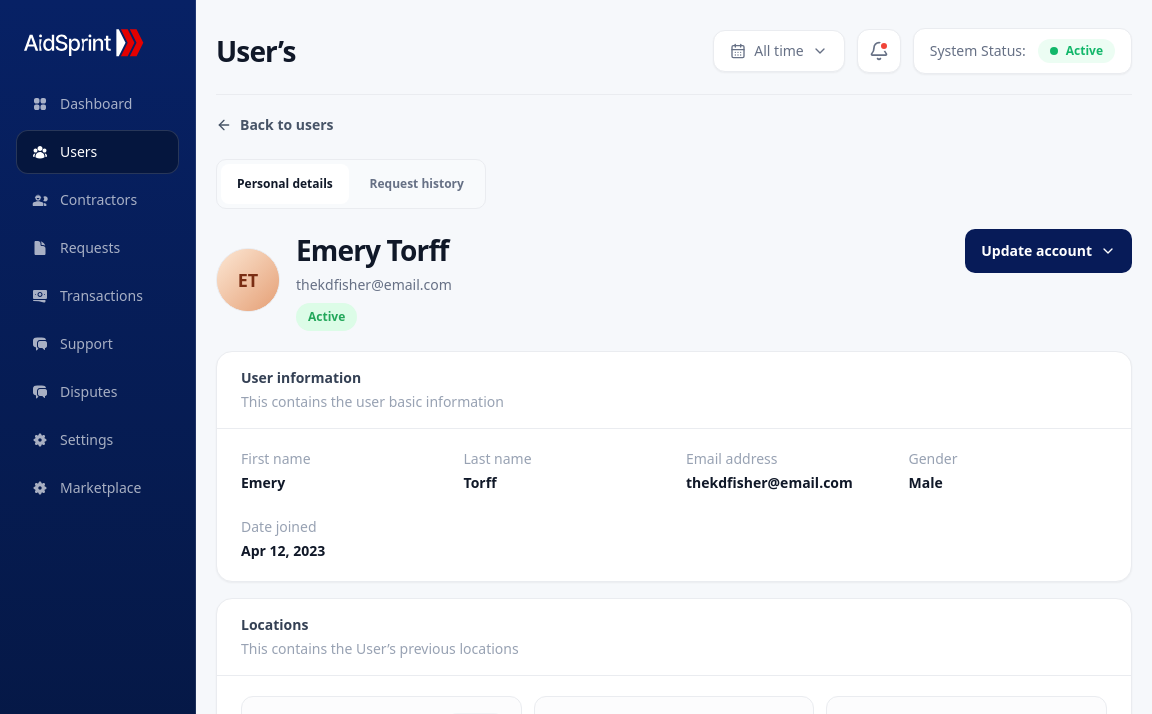
UserDetailsPage › opens the request details sidebar from a request row
This screenshot has width=1152, height=714.
Click the tab "Request history": {"x": 417, "y": 184} [353,164,481,204]
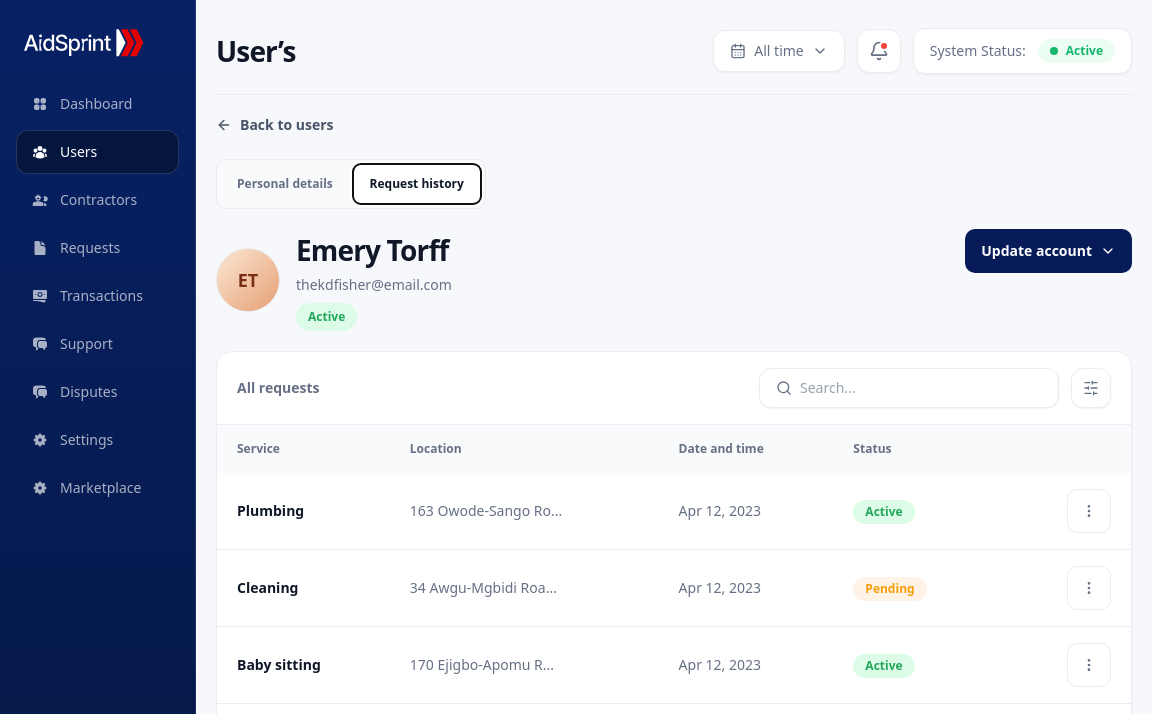
Click the button named "Open request details for Plumbing": {"x": 1089, "y": 511} [1067,489,1111,533]
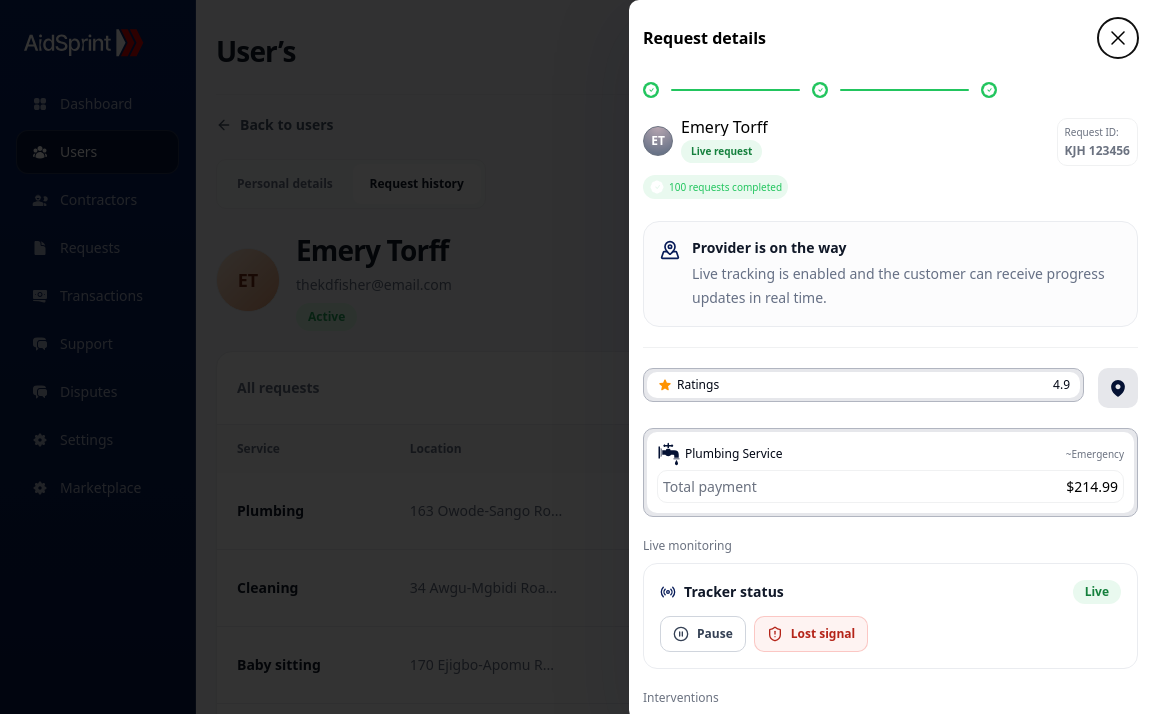
Expected: the text "KJH 123456" is shown, [1065,143,1130,158]
Expected: the button named "Open live tracker" is shown, [1098,368,1138,408]
